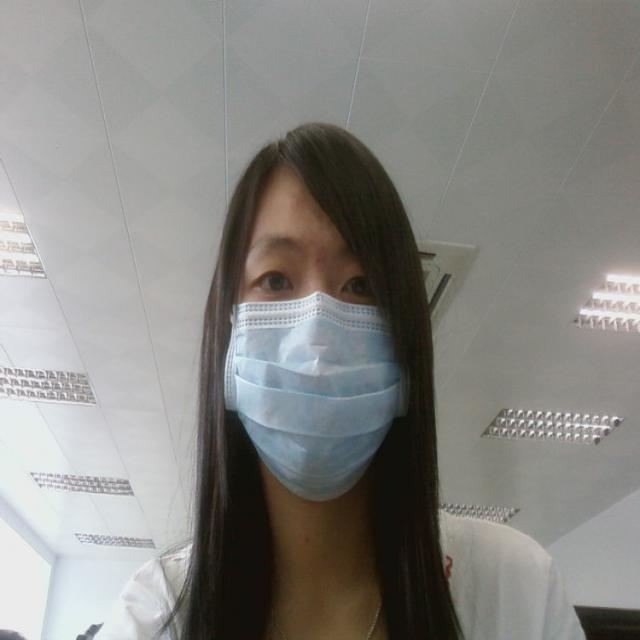mask: (222, 157, 416, 460)
